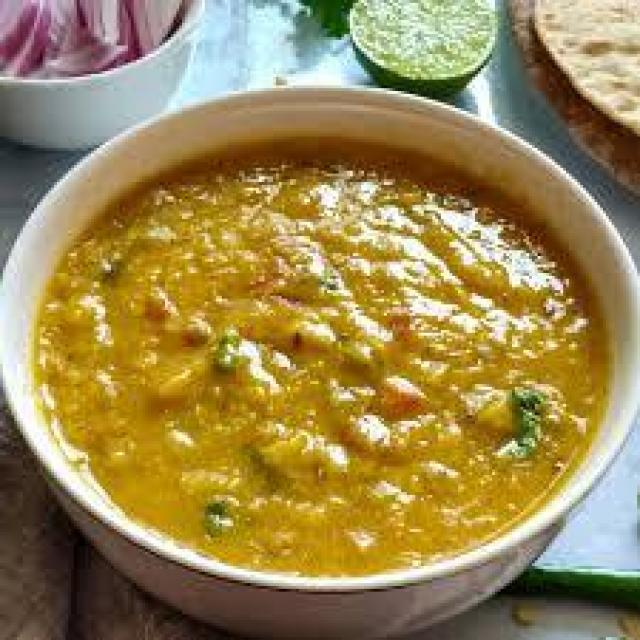dal: (35, 137, 619, 571)
